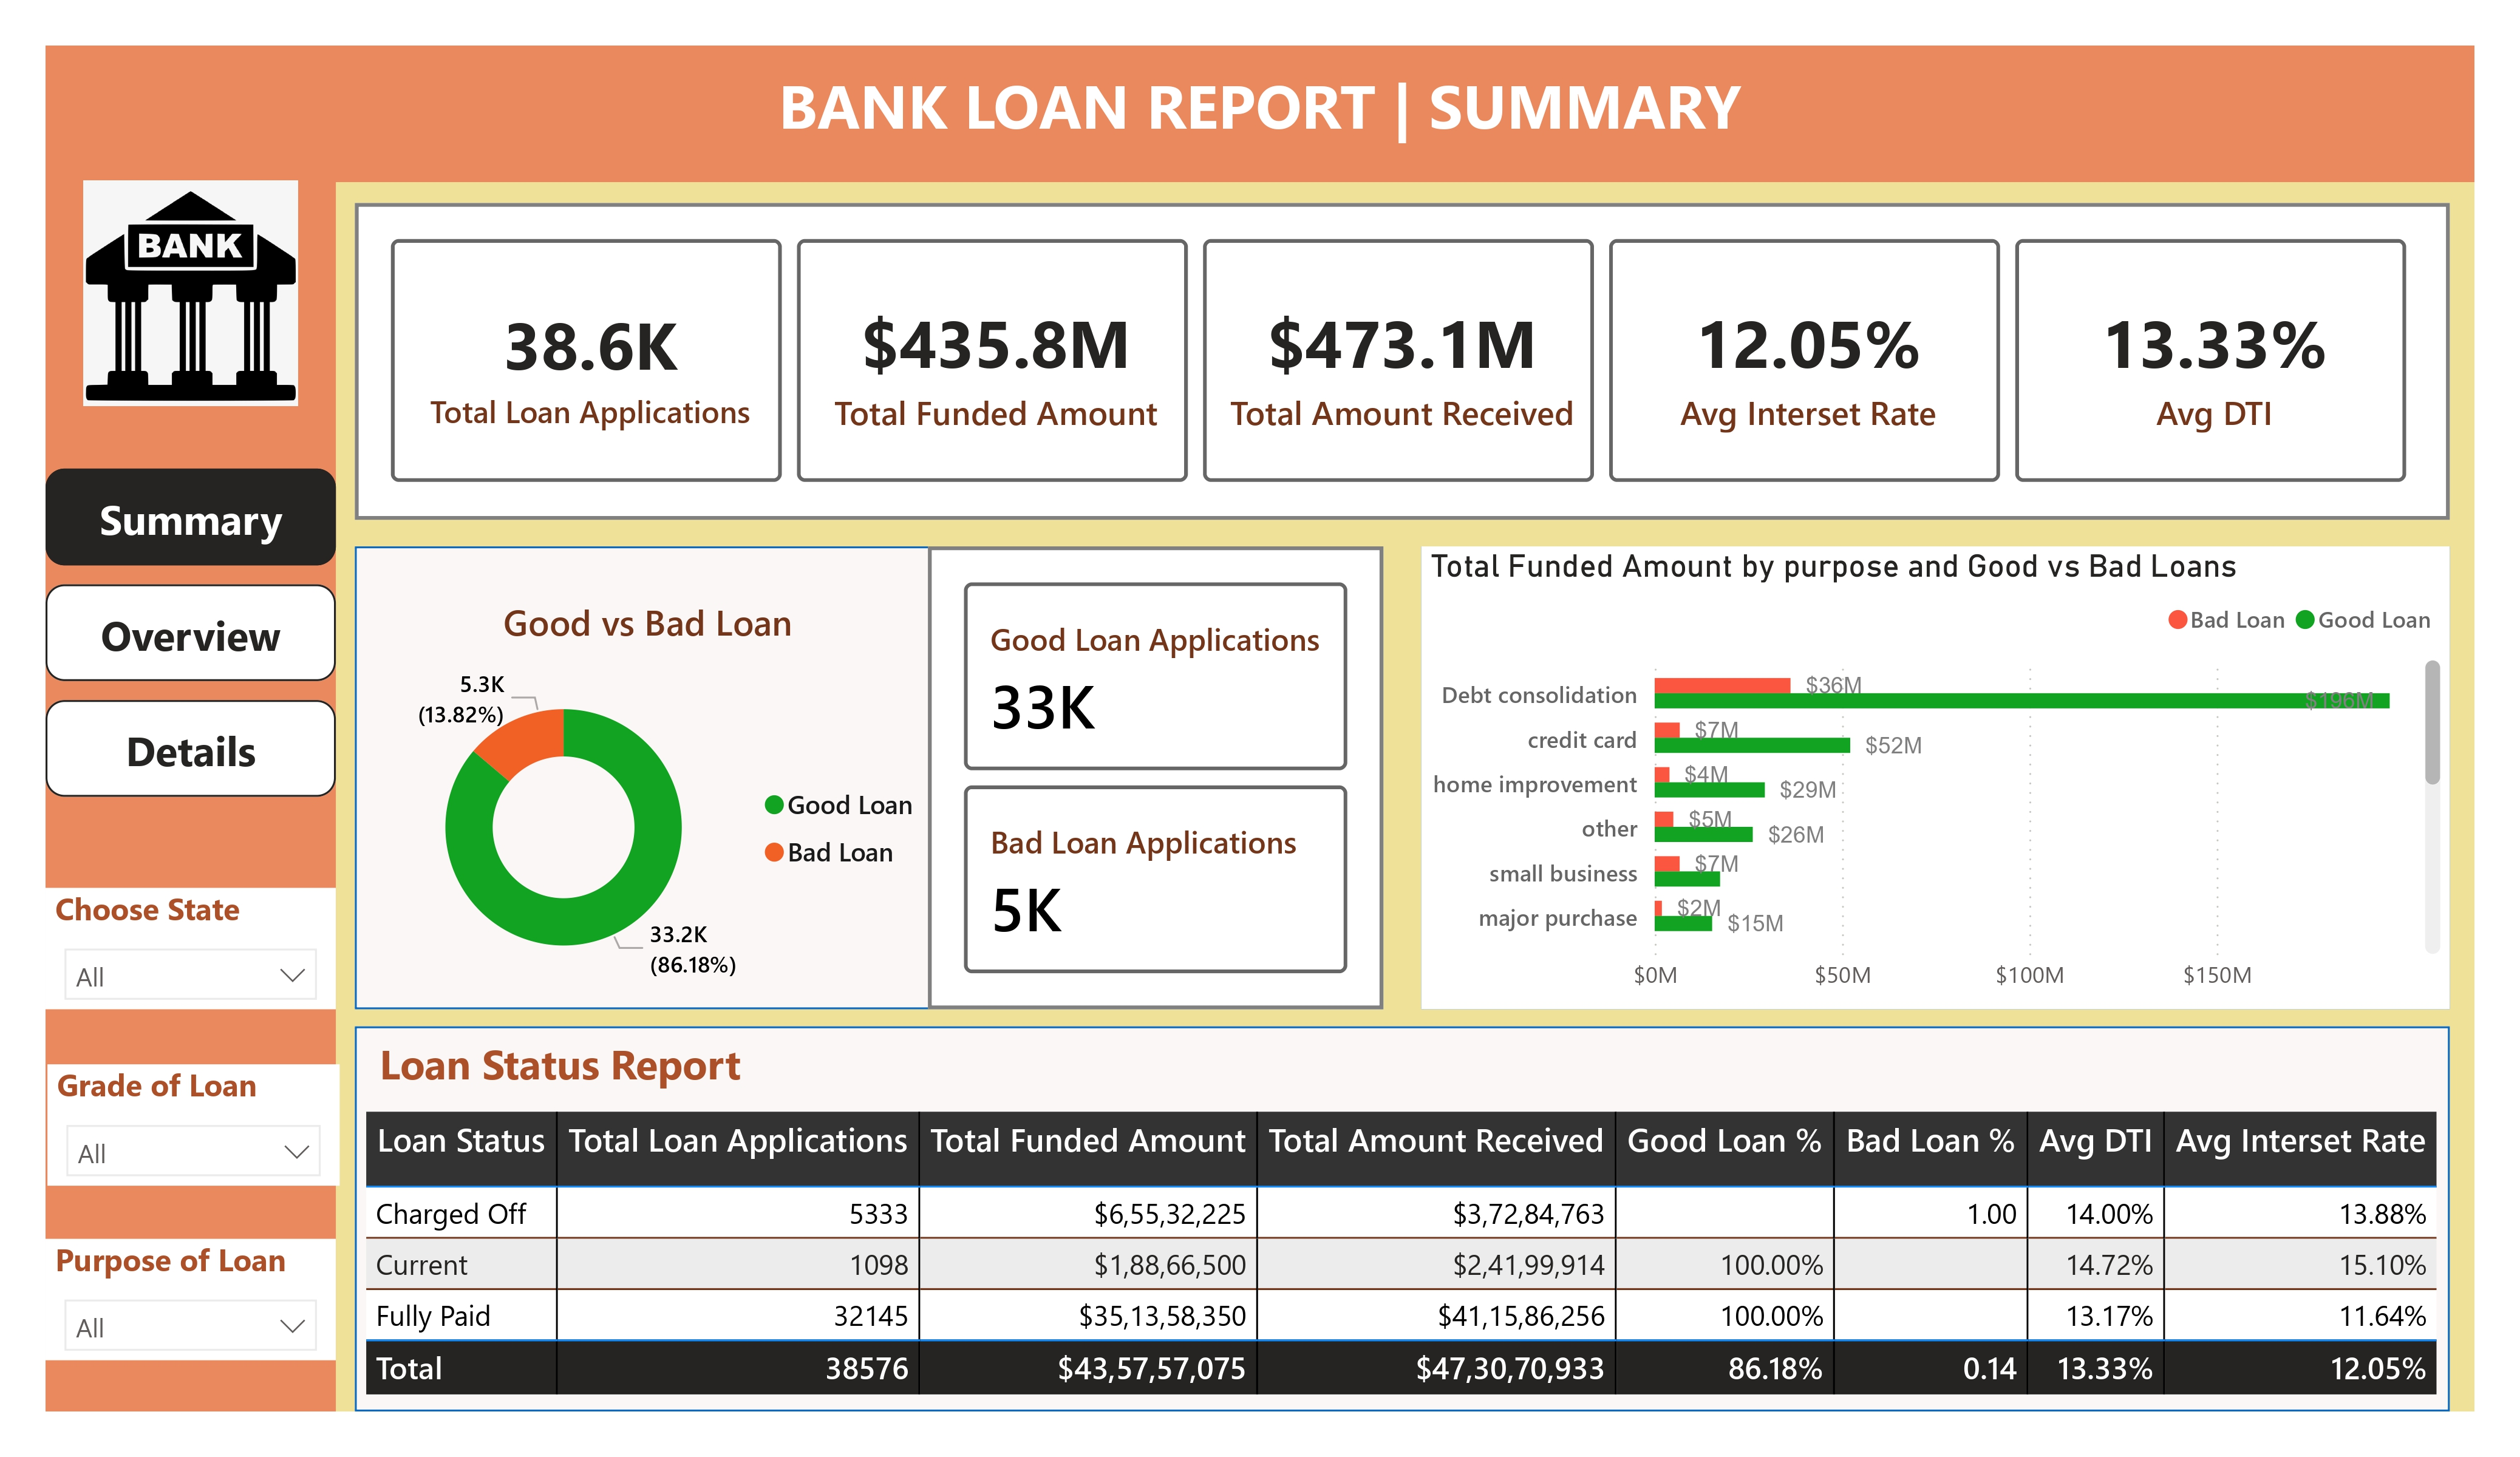

The dashboard page shown, as its layout file describes it:
{"tool":"powerbi","page":{"name":"Summary","canvas":[1280,720],"ordinal":0},"visuals":[{"type":"shape","box":[0,0,1279.8,72.4],"z":0},{"type":"shape","box":[0,72.4,153.4,647.9],"z":1000},{"type":"textbox","box":[365.2,3.7,549.7,63.8],"z":2000},{"type":"image","box":[0,71.2,153.4,119],"z":3000},{"type":"textbox","box":[174.2,92.1,192.8,38.6],"z":4000},{"type":"cardVisual","fields":{"Data":["financial_loan.Total Loan Applications","financial_loan.Total Funded Amount","financial_loan.Total Amount Received","Date Table.Avg Interset Rate","financial_loan.Avg DTI"]},"box":[163.2,83.4,1104.3,166.9],"z":5000},{"type":"shape","box":[163.2,263.8,542.3,244.2],"z":6000,"group":"g1"},{"type":"shape","box":[725.2,263.8,542.3,244.2],"z":6000,"group":"g2"},{"type":"shape","box":[163.2,516.6,1104.3,203.7],"z":6000},{"type":"tableEx","fields":{"Values":["financial_loan.loan_status","financial_loan.Total Loan Applications","financial_loan.Total Funded Amount","financial_loan.Total Amount Received","financial_loan.Good Loan %","financial_loan.Bad Loan %","financial_loan.Avg DTI","Date Table.Avg Interset Rate"]},"box":[163.2,557.1,1105.5,163.2],"z":7000},{"type":"textbox","box":[170.6,516.6,222.1,41.7],"z":8000},{"type":"group","id":"g1","title":"Group 1","box":[163.2,263.8,542.3,244.2],"z":9000},{"type":"donutChart","title":"Good vs Bad Loan","fields":{"Y":["financial_loan.Total Loan Applications"],"Category":["financial_loan.Good vs Bad Loans"]},"box":[163.2,290.8,309.2,217.2],"z":9000,"group":"g1"},{"type":"group","id":"g2","title":"Group 1","box":[725.2,263.8,542.3,244.2],"z":10000},{"type":"pageNavigator","box":[0,223.3,153.4,173],"z":11000},{"type":"cardVisual","fields":{"Data":["financial_loan.Good Loan Applications","financial_loan.Bad Loan Applications"]},"box":[465,263.8,240.5,244.2],"z":11000,"group":"g1"},{"type":"slicer","title":"Purpose of Loan","fields":{"Values":["financial_loan.purpose"]},"box":[0,629.5,153.4,63.8],"z":12000},{"type":"slicer","title":"Grade of Loan","fields":{"Values":["financial_loan.grade"]},"box":[1.2,536.8,153.4,63.8],"z":13000},{"type":"slicer","title":"Choose State","fields":{"Values":["financial_loan.address_state"]},"box":[0,444.2,153.4,63.8],"z":14000},{"type":"clusteredBarChart","fields":{"Category":["financial_loan.purpose"],"Y":["financial_loan.Total Funded Amount"],"Series":["financial_loan.Good vs Bad Loans"]},"box":[725.2,263.8,542.3,244.2],"z":15000}]}

Visuals, with their boxes on the page's 1280x720 design canvas (x1, y1, x2, y2). These are canvas units, not pixel positions in the 2520x1457 screenshot, which may show the page scaled, cropped or inside an application window:
shape: detection(0, 0, 1280, 72)
shape: detection(0, 72, 153, 720)
textbox: detection(365, 4, 915, 68)
image: detection(0, 71, 153, 190)
textbox: detection(174, 92, 367, 131)
cardVisual - financial_loan.Total Loan Applications x financial_loan.Total Funded Amount: detection(163, 83, 1268, 250)
shape: detection(163, 264, 706, 508)
shape: detection(725, 264, 1268, 508)
shape: detection(163, 517, 1268, 720)
tableEx - financial_loan.loan_status x financial_loan.Total Loan Applications: detection(163, 557, 1269, 720)
textbox: detection(171, 517, 393, 558)
"Group 1" group: detection(163, 264, 706, 508)
"Good vs Bad Loan" donutChart: detection(163, 291, 472, 508)
"Group 1" group: detection(725, 264, 1268, 508)
pageNavigator: detection(0, 223, 153, 396)
cardVisual - financial_loan.Good Loan Applications x financial_loan.Bad Loan Applications: detection(465, 264, 706, 508)
"Purpose of Loan" slicer: detection(0, 630, 153, 693)
"Grade of Loan" slicer: detection(1, 537, 155, 601)
"Choose State" slicer: detection(0, 444, 153, 508)
clusteredBarChart - financial_loan.purpose x financial_loan.Total Funded Amount: detection(725, 264, 1268, 508)
